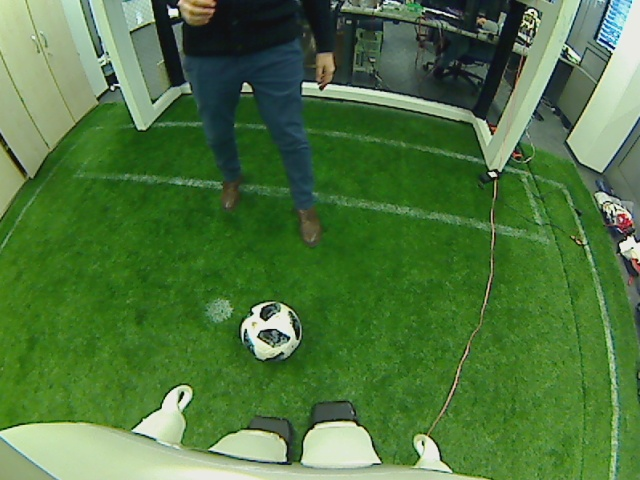ball: (238, 298, 304, 363)
